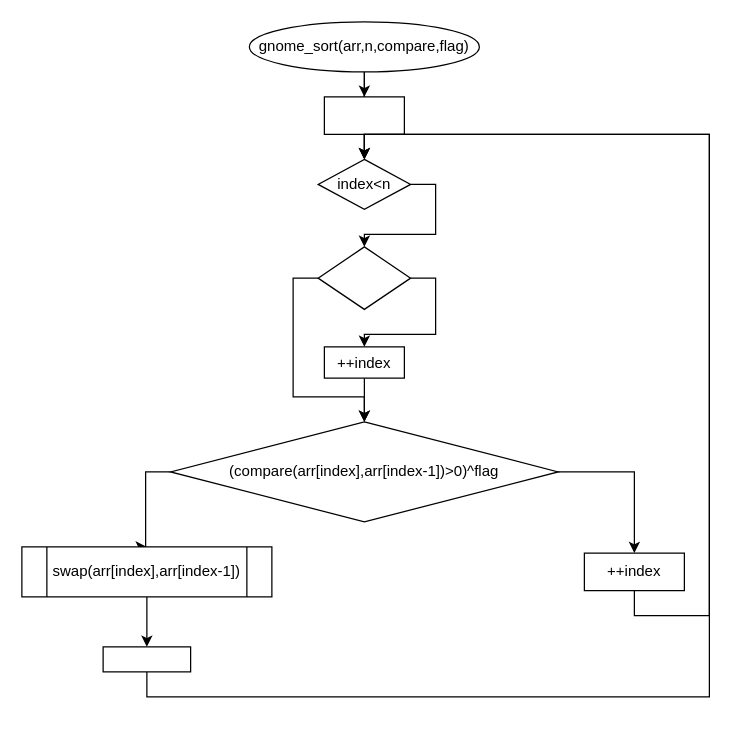
Some shapes in this 741 by 729 pixel diagram are drawn without their labels. The centre of each missing label's shape, as x and y in pixels:
--index: the point at 146,659
index=0: the point at 363,115
index==0: the point at 364,277
